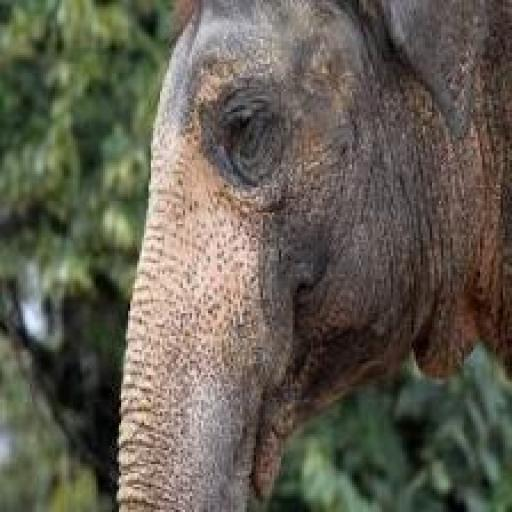Elephant: (114, 0, 511, 512)
